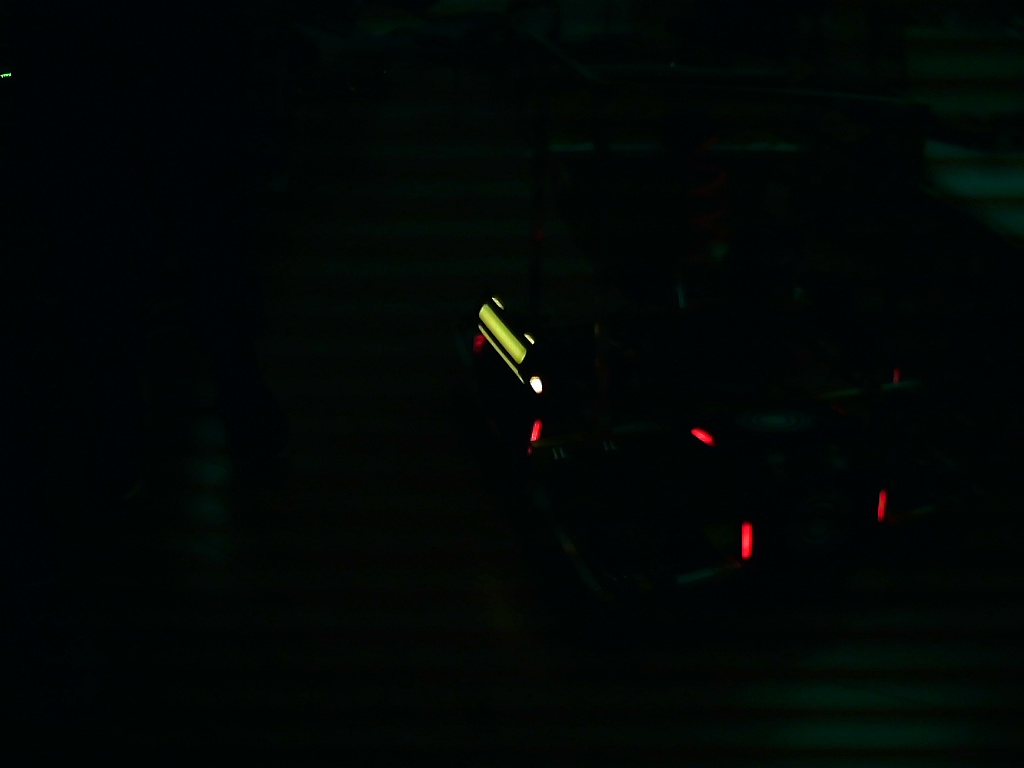lamp: (734, 518, 757, 563), (873, 490, 888, 522)
